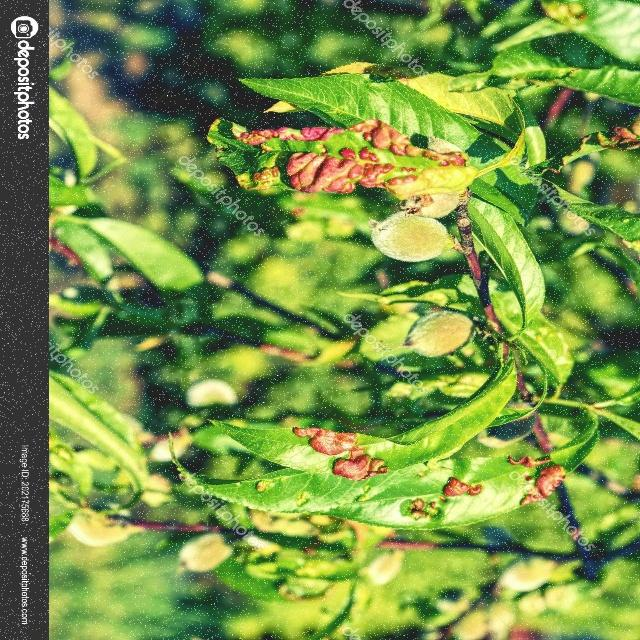leaf_curl: (205, 409, 617, 555), (189, 122, 503, 215)
